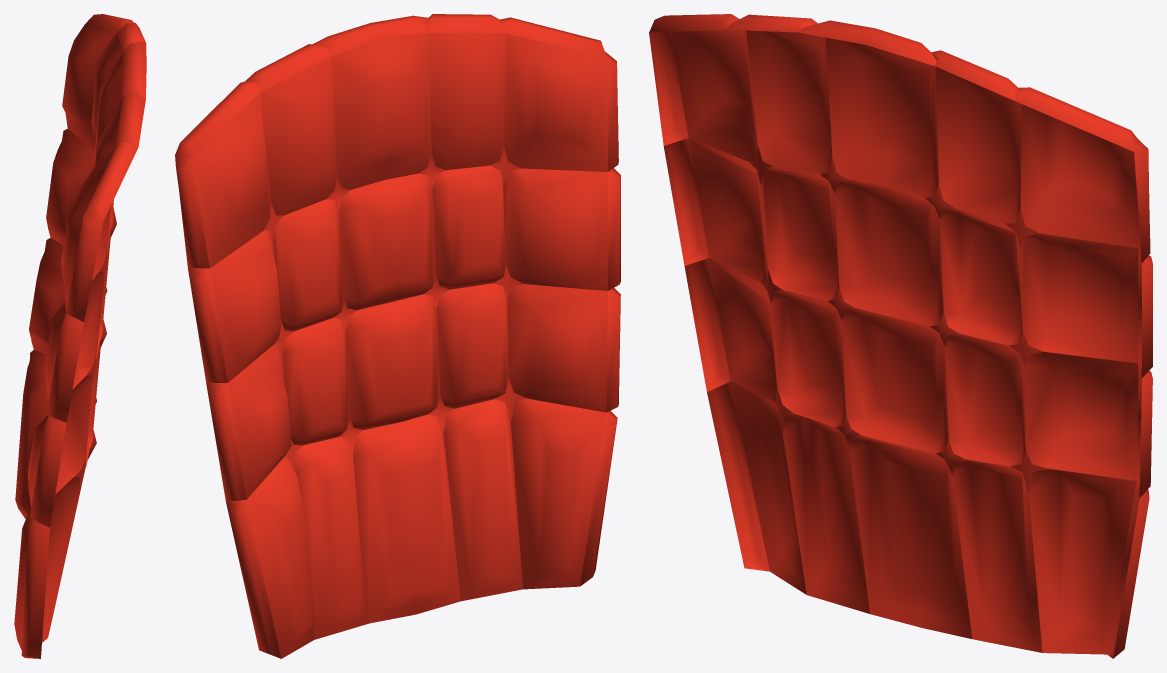
File: m_roomOfPoleDance_armChair_pillow_02.fbx
3 views of the same model, side by side, from view 1: azimuth 30°, elevation 25°; view 2: azimuth 150°, elevation 25°; view 3: azimuth 270°, elevation 25° (orthographic). The views are drawn at different scales.
Visible parts, largest first — view 1: m_roomOfPoleDance_armChair_pillow_02; view 2: m_roomOfPoleDance_armChair_pillow_02; view 3: m_roomOfPoleDance_armChair_pillow_02.
Boxes of the visible parts, x1,y1,x2,y2 form: m_roomOfPoleDance_armChair_pillow_02: (14, 14, 146, 658); m_roomOfPoleDance_armChair_pillow_02: (175, 14, 620, 658); m_roomOfPoleDance_armChair_pillow_02: (649, 14, 1152, 658).
Size of the model in its own units: 35.9 by 73.51 by 53.02.
